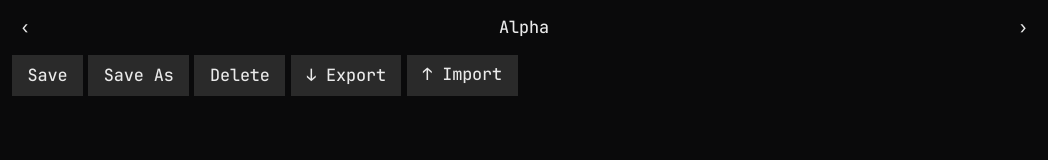
Scenario: Task DR-8.5: PresetStrip — action buttons › Save As accepts prompt input, saves, updates name, refreshes cycler
The width and height of the screenshot is (1048, 160).
Click the button "Save As".
click(139, 76)  # box 88,55 -> 189,96
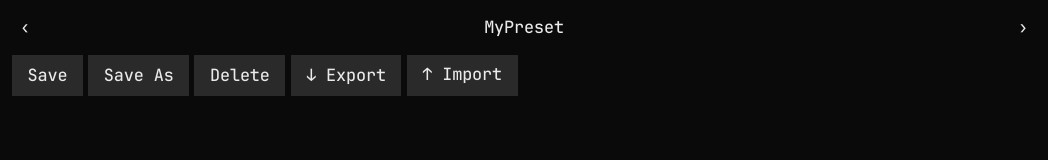
expect the field with test id "preset-name" holds "MyPreset": met, box 48,10 -> 1000,44
